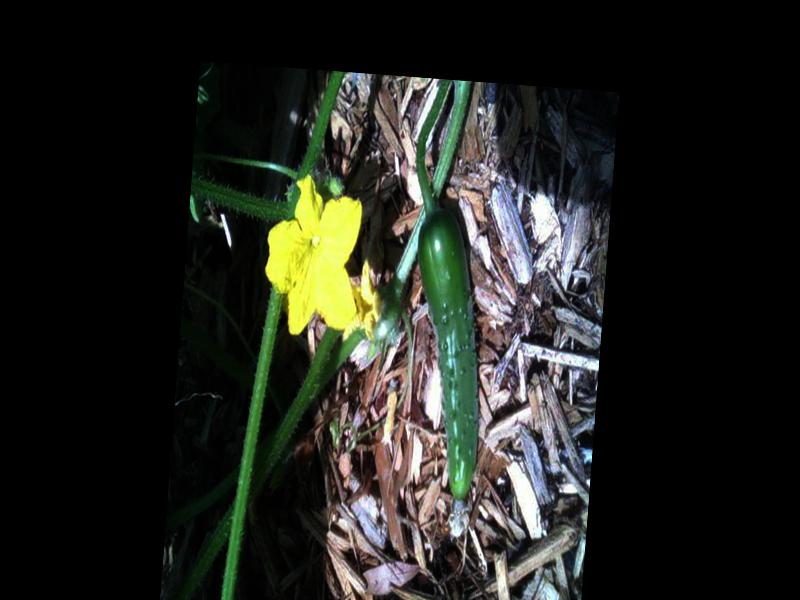Cucumber: (396, 203, 498, 531)
